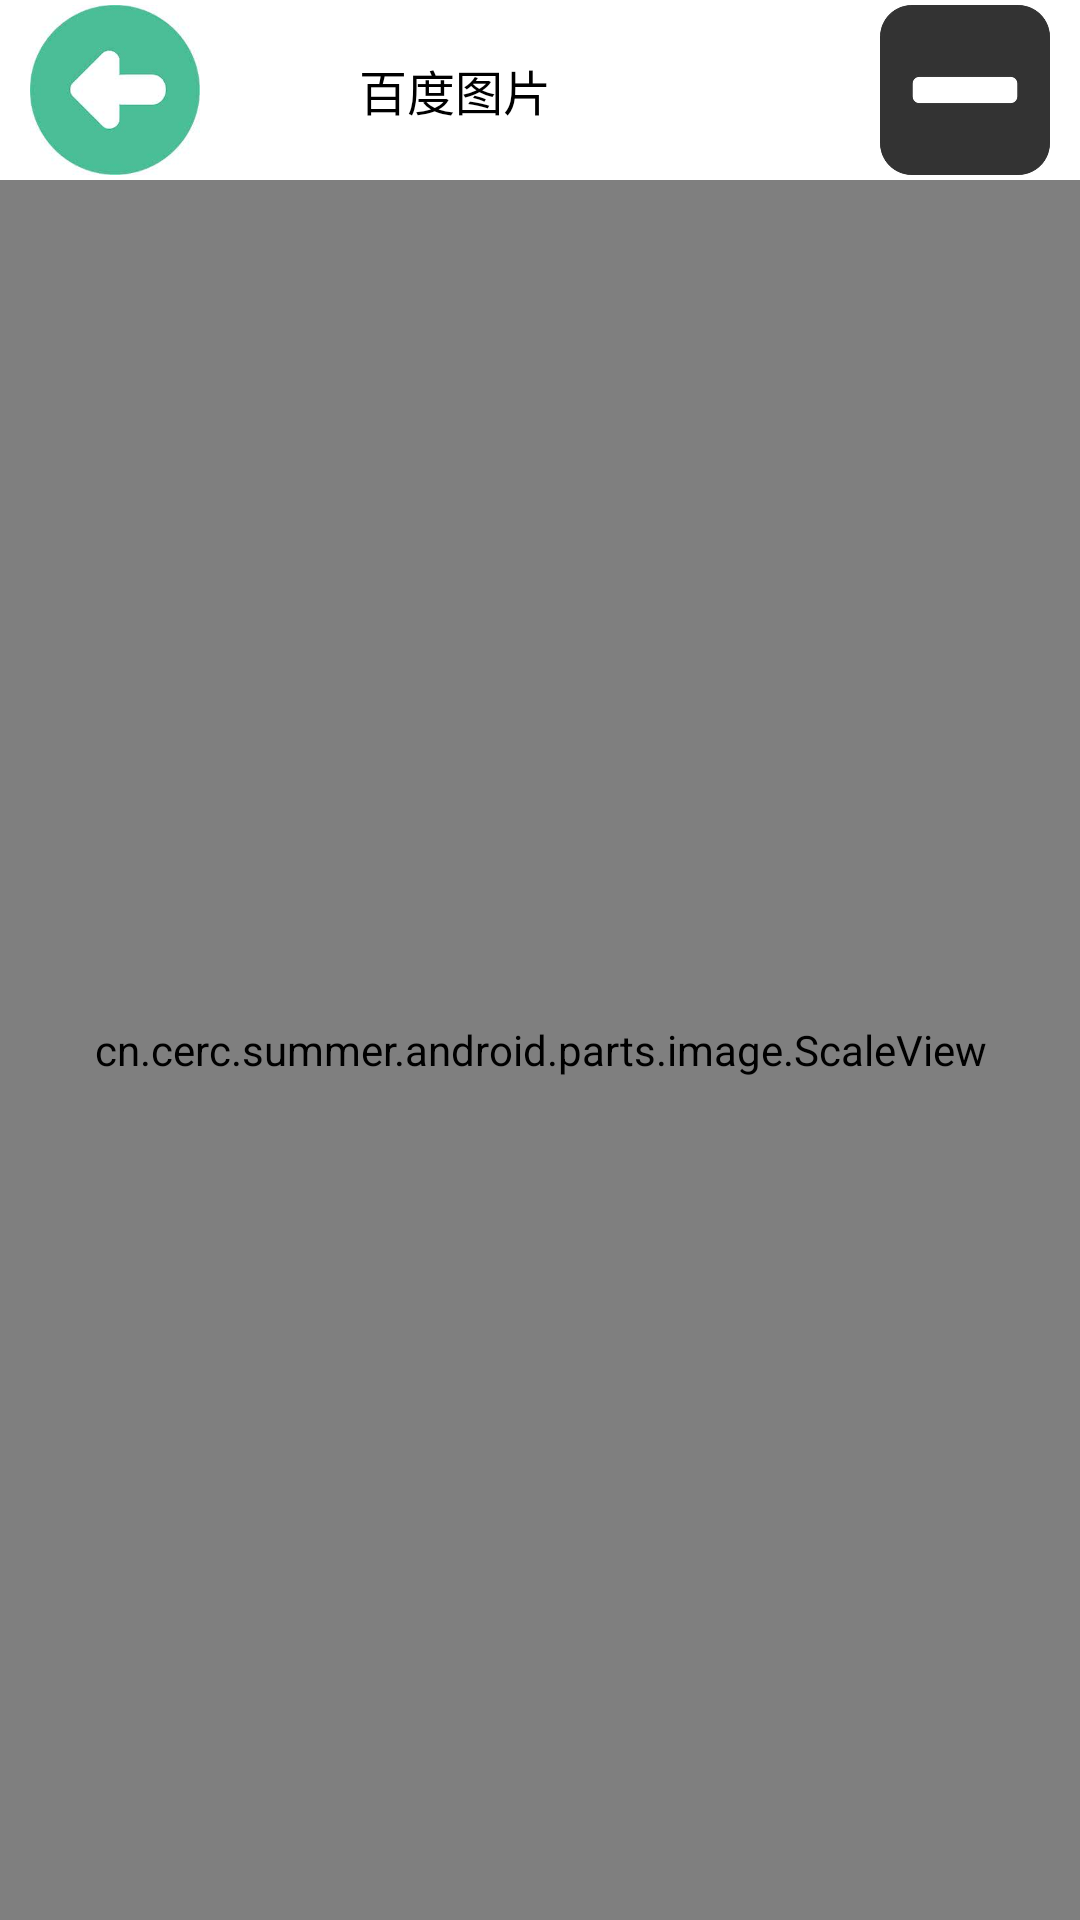

Where to tap for icons on this 1080 × 1920 app screen, as (x,y):
comeback: (115,90)
jian: (965,90)
